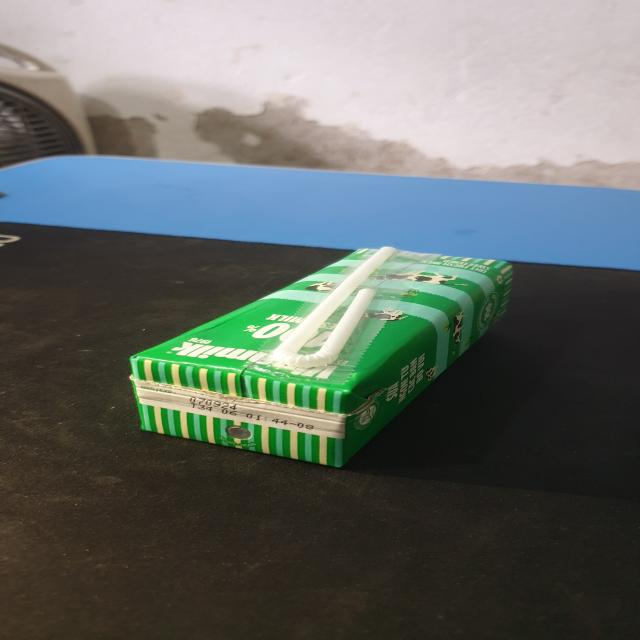Vina: (129, 247, 518, 471)
